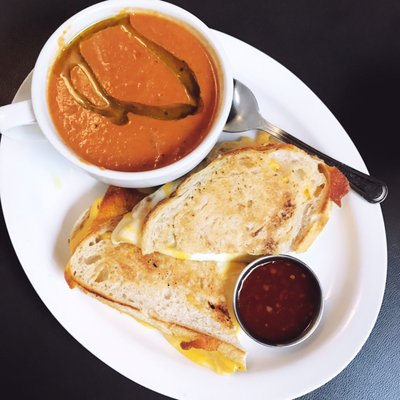burger: (225, 78, 389, 204)
sandwich: (224, 78, 389, 204)
sushi: (31, 1, 235, 189), (231, 255, 326, 353)
